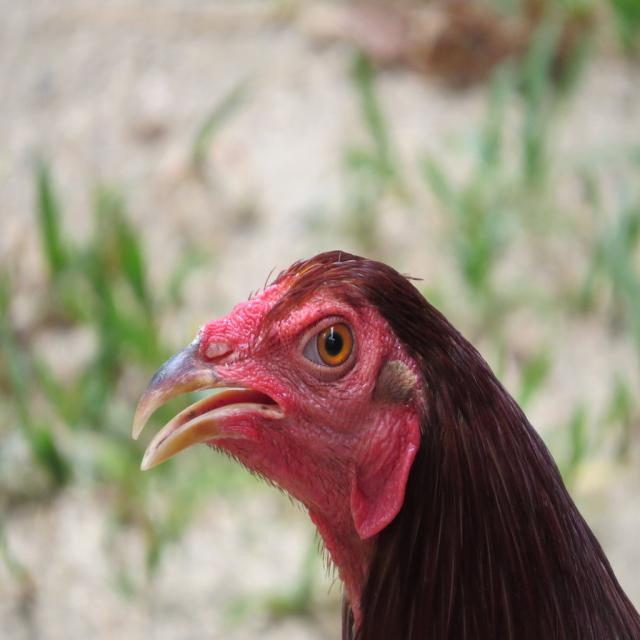Chicken: (134, 239, 640, 630)
